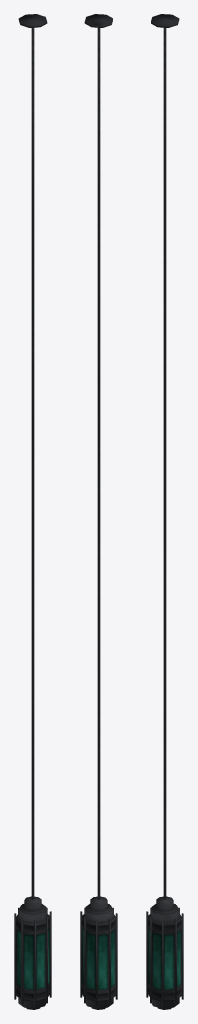
Rendered from HangingLamp.obj.
3 views of the same model, side by side, from view 1: azimuth 30°, elevation 25°; view 2: azimuth 150°, elevation 25°; view 3: azimuth 330°, elevation 25° (orthographic).
Visible parts, largest first — view 1: HangingLamp; view 2: HangingLamp; view 3: HangingLamp.
Boxes of the visible parts, x1,y1,x2,y2 form: HangingLamp: (14,14,51,1009); HangingLamp: (80,14,117,1009); HangingLamp: (146,14,183,1009).
Size of the model in its own units: 75.31 by 2371 by 75.31.
Materials: 2 (2 with a texture image).
